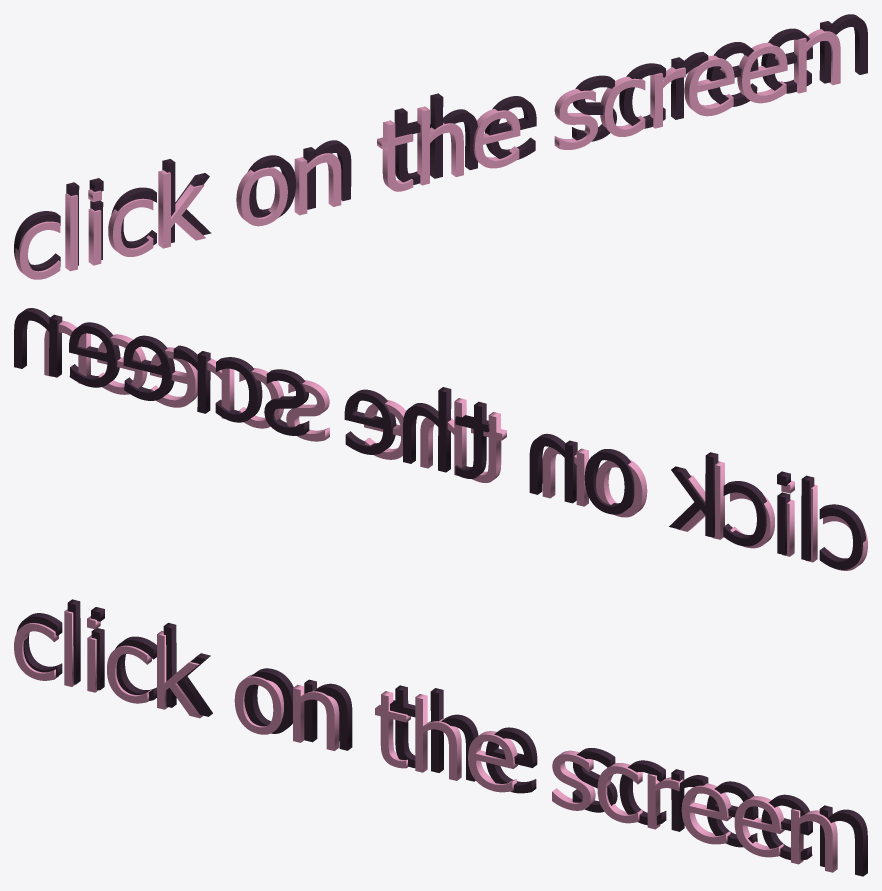
The model's file is title_Ex2.fbx.
3 renders of one model, top to bottom at view 1: azimuth 30°, elevation 25°; view 2: azimuth 150°, elevation 25°; view 3: azimuth 330°, elevation 25°, orthographic.
Visible parts, largest first — view 1: テキスト, テキスト.001; view 2: テキスト.001, テキスト; view 3: テキスト, テキスト.001.
Boxes of the visible parts, bbox=[...] form: テキスト: bbox=[15, 29, 840, 279]; テキスト.001: bbox=[14, 14, 867, 271]; テキスト.001: bbox=[14, 308, 865, 569]; テキスト: bbox=[44, 320, 867, 570]; テキスト: bbox=[14, 609, 837, 872]; テキスト.001: bbox=[16, 599, 867, 876].
Size of the model in its own units: 617 by 58.1 by 8.05.
